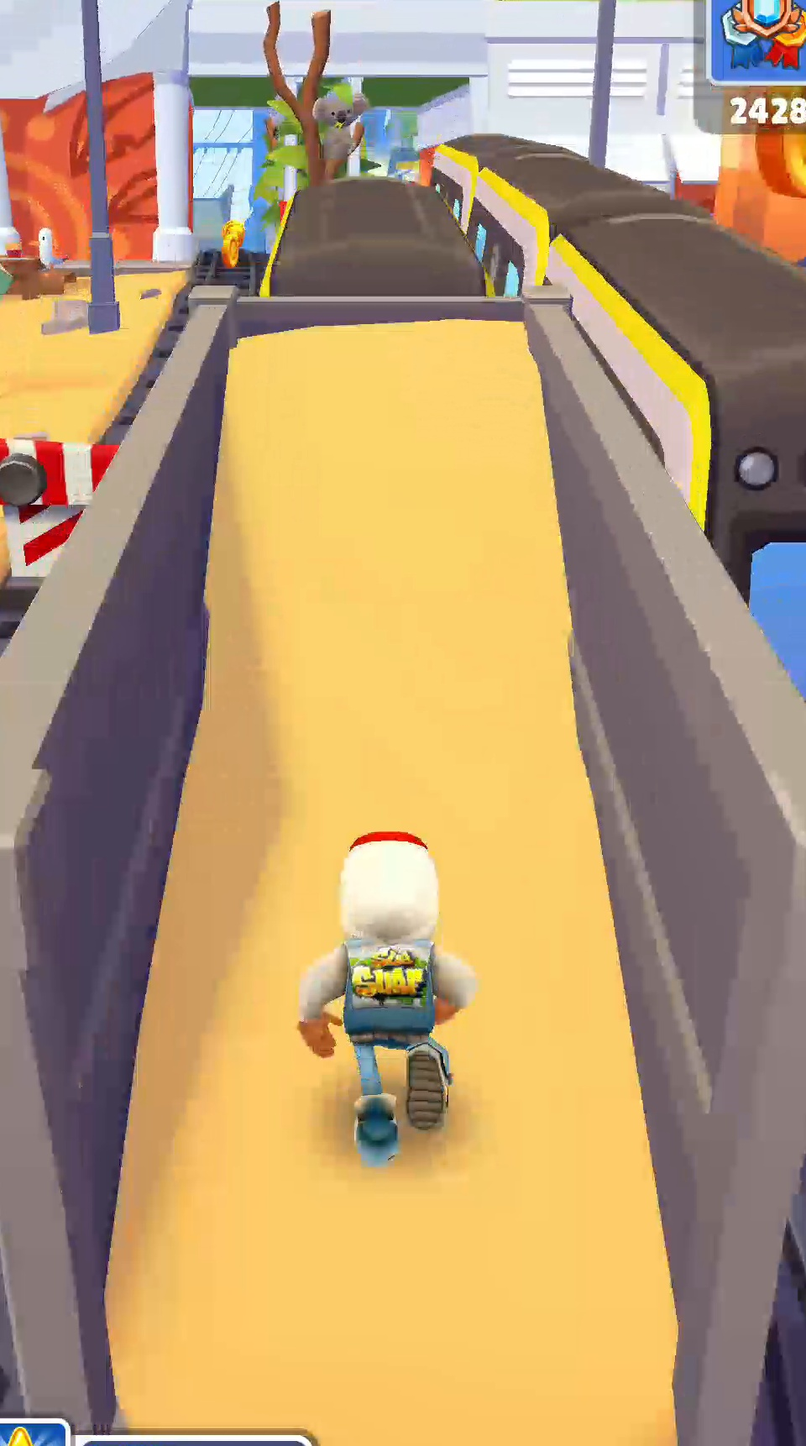block pillar: (254, 54, 369, 222)
climber: (107, 322, 673, 1445), (193, 186, 233, 249)
roll blocker: (0, 437, 120, 579)
